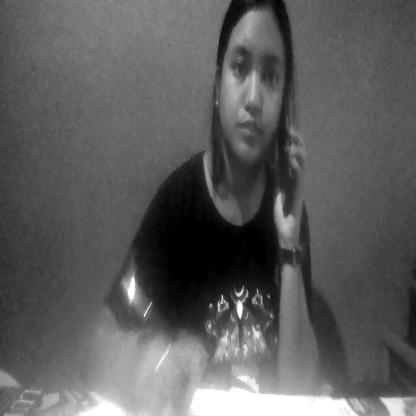Normal: (219, 14, 279, 163)
